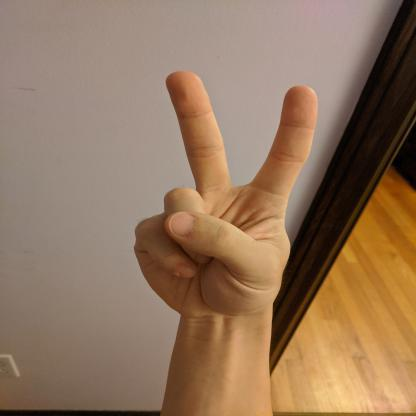V: (128, 67, 324, 314)
